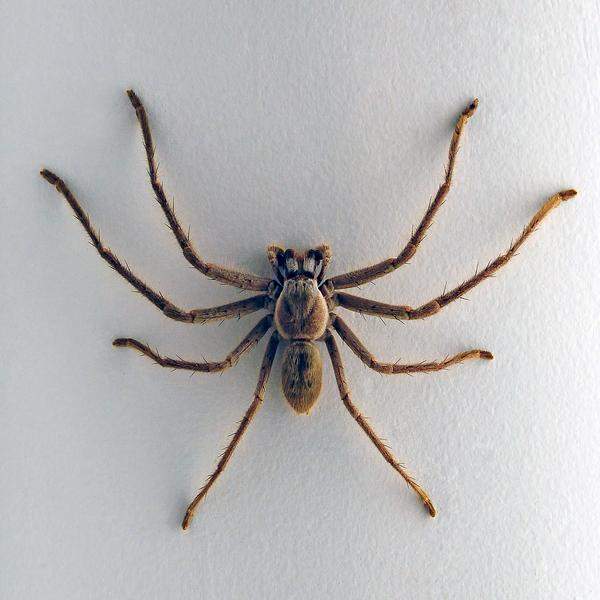Huntsman Spider: (51, 91, 578, 524)
